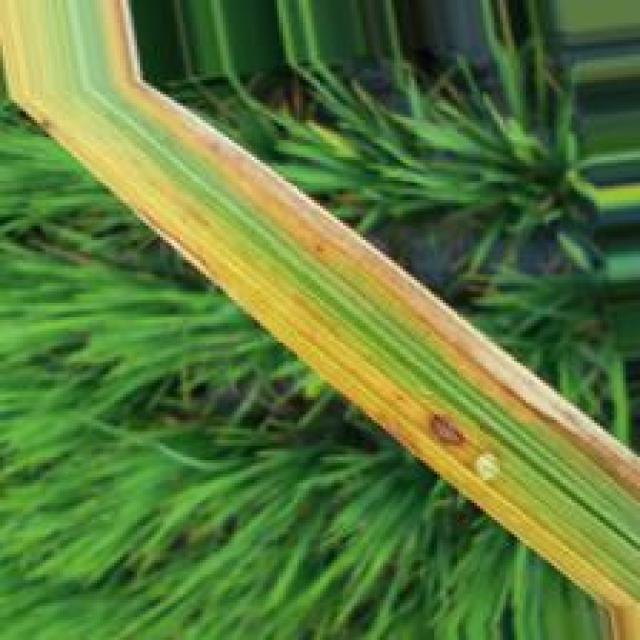Bacterial_Leaf_Blight: (2, 30, 635, 606), (100, 1, 637, 497)
